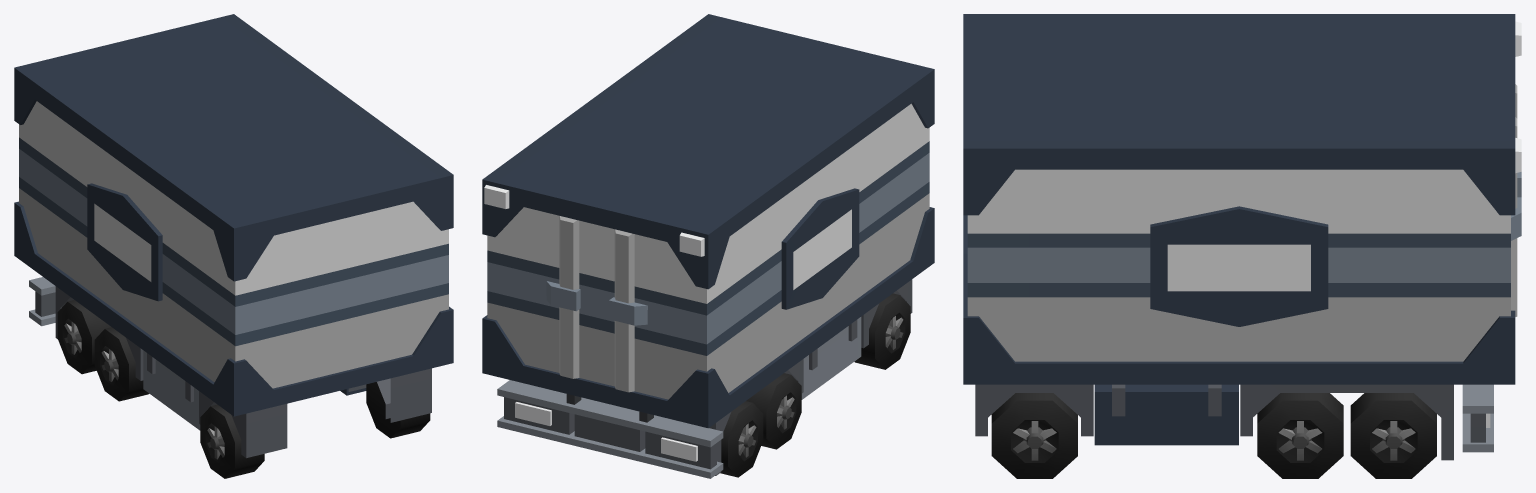
The model's file is cargo_04_D_2.fbx.
3 views of the same model, side by side, from view 1: azimuth 30°, elevation 25°; view 2: azimuth 150°, elevation 25°; view 3: azimuth 270°, elevation 25° (orthographic). The views are drawn at different scales.
Visible parts, largest first — view 1: cargo_04_D_2; view 2: cargo_04_D_2; view 3: cargo_04_D_2.
Part boxes in pixels (bbox=[...]): cargo_04_D_2: bbox=[14, 14, 453, 478]; cargo_04_D_2: bbox=[482, 14, 934, 478]; cargo_04_D_2: bbox=[963, 14, 1521, 478].
Bounding box in the file's own units: 14.24 × 16.48 × 24.7.
